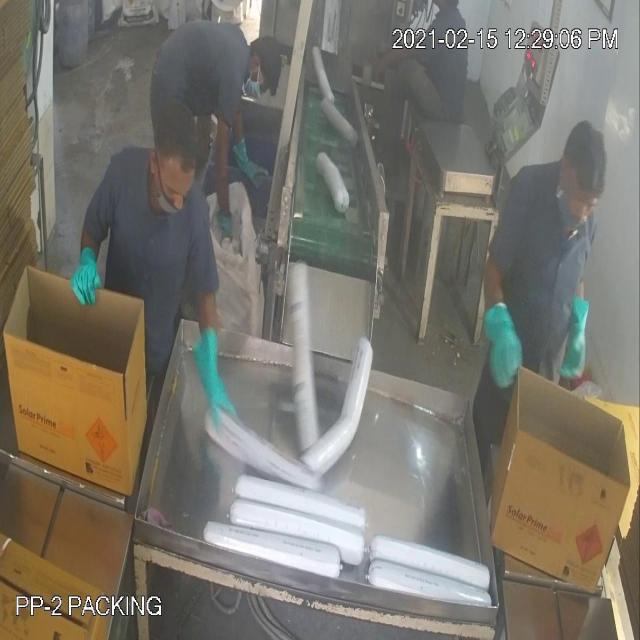No_Gloves: (28, 44, 584, 366)
